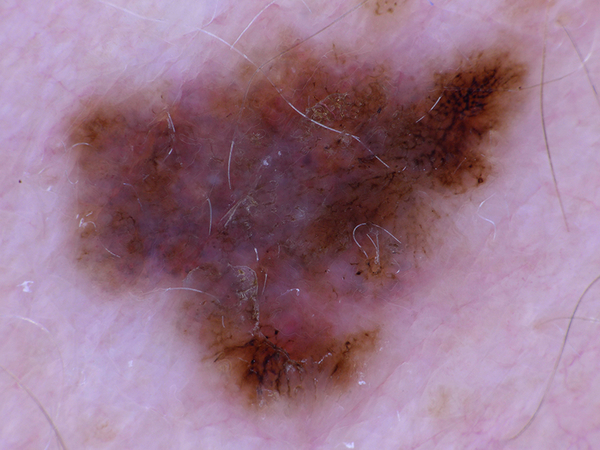Detected Lesion: (62, 32, 533, 415)
